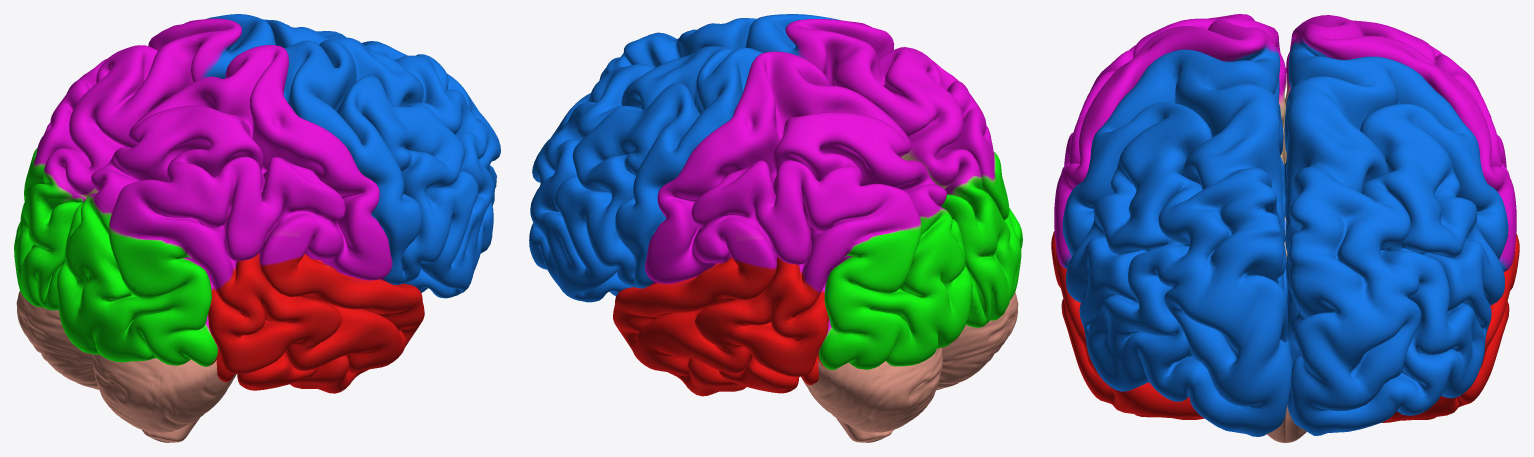
The model's file is Brain_02.glb.
3 views of the same model, side by side, from view 1: azimuth 30°, elevation 25°; view 2: azimuth 150°, elevation 25°; view 3: azimuth 270°, elevation 25° (orthographic). The views are drawn at different scales.
Visible parts, largest first — view 1: cerebro_HPoly5, cerebro_HPoly4, cerebro_HPoly006, cerebro_HPoly1, cerebro_HPoly3_002; view 2: cerebro_HPoly4, cerebro_HPoly5, cerebro_HPoly1, cerebro_HPoly006, cerebro_HPoly3_1; view 3: cerebro_HPoly5, cerebro_HPoly4.
Part boxes in pixels (<box>): cerebro_HPoly5: <box>56,37,500,393</box>; cerebro_HPoly4: <box>14,14,407,310</box>; cerebro_HPoly006: <box>92,354,236,432</box>; cerebro_HPoly1: <box>16,291,99,389</box>; cerebro_HPoly3_002: <box>145,418,199,442</box>; cerebro_HPoly4: <box>529,46,972,396</box>; cerebro_HPoly5: <box>599,14,1022,327</box>; cerebro_HPoly1: <box>801,347,942,432</box>; cerebro_HPoly006: <box>936,292,1018,390</box>; cerebro_HPoly3_1: <box>836,417,890,442</box>; cerebro_HPoly5: <box>1051,14,1291,436</box>; cerebro_HPoly4: <box>1284,15,1519,435</box>.
Bounding box in the file's own units: 5.31 × 4.58 × 4.31.
4 materials, 2 textured.
